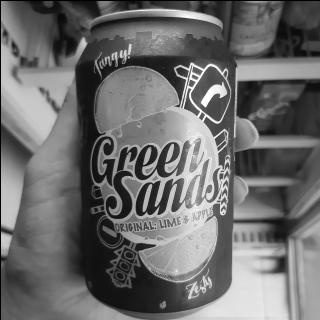alumunium_can: (58, 0, 248, 320)
